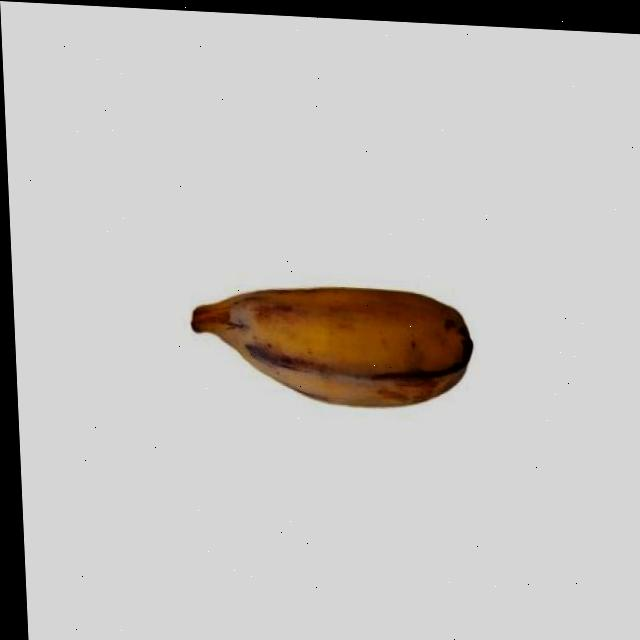banana: (179, 268, 478, 418)
